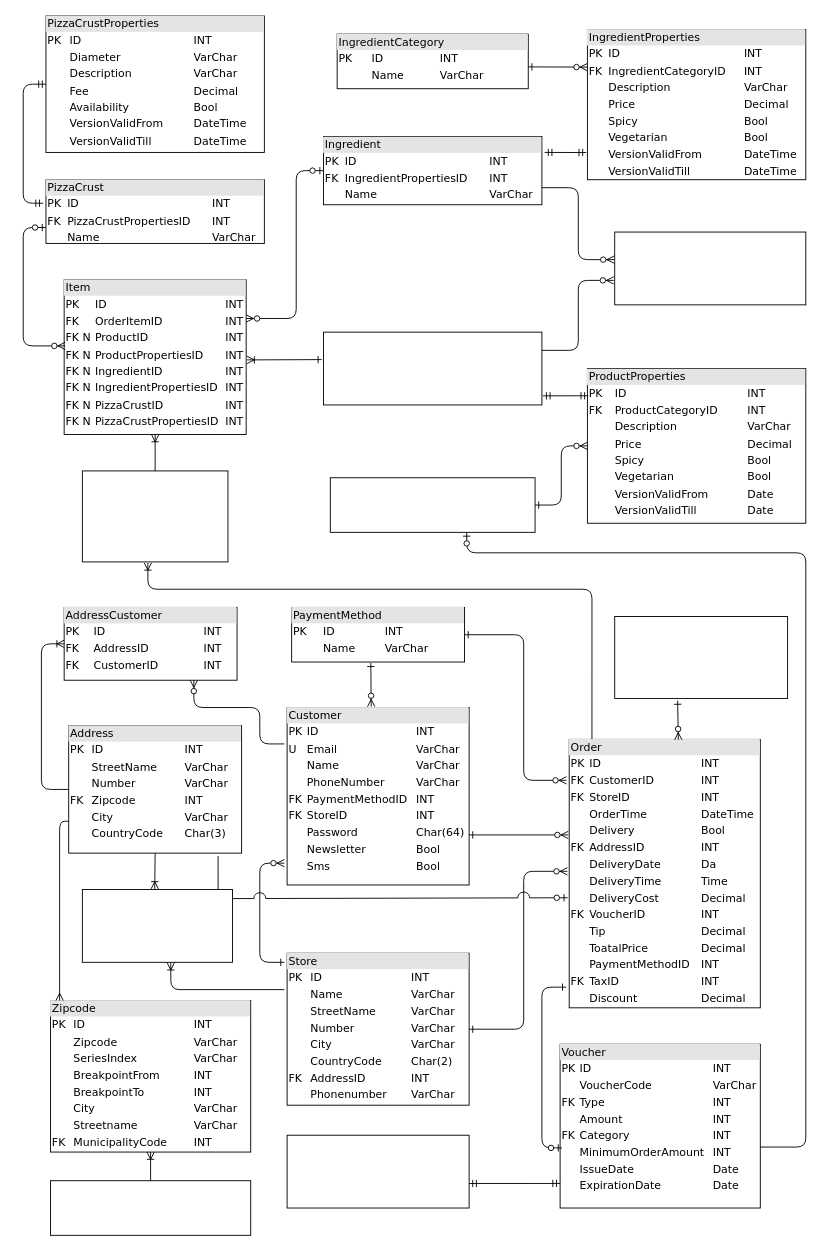
The diagram is 829 pixels wide and 1251 high, and some of its shapes have lost their labels. The box of each missing label's shape, as (x1, y1, x2, y2) in pixels:
AddressStore PK ID INT FK AddressID INT FK StoreID INT: (81, 889, 233, 962)
Municipality PK MunicipalityCode Decimal Name VarChar: (50, 1180, 251, 1235)
OrderItem PK ID INT FK OrderID INT Quantity INT Price Decimal: (81, 470, 228, 562)
PizzaRecipe PK ID INT FK ProductID INT FK IngredientID INT: (614, 231, 806, 305)
Product PK ID INT FK ProductPropertiesID INT Name VarChar: (323, 331, 542, 405)
ProductCategory PK ID INT Name VarChar: (329, 477, 535, 532)
Tax PK ID INT Rate Decimal ValidFrom Date VaildTill Date: (614, 616, 788, 698)
VoucherType PK ID INT Name VarChar Description VarChar: (286, 1134, 469, 1208)
